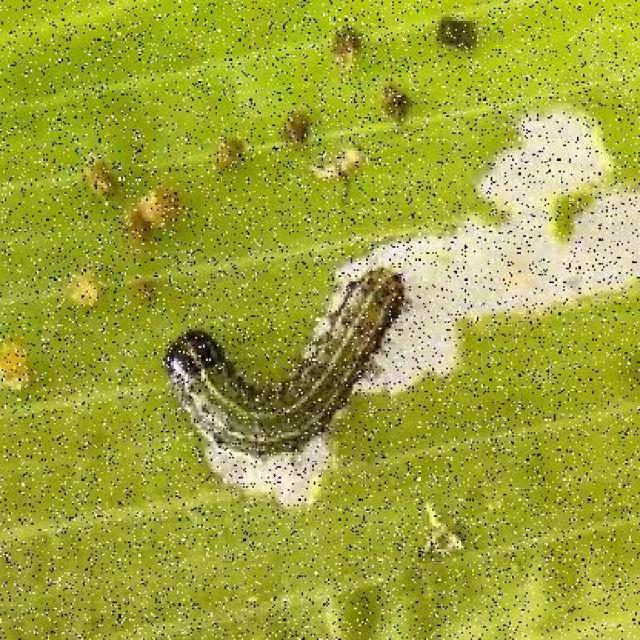Plaga: (146, 253, 413, 475)
